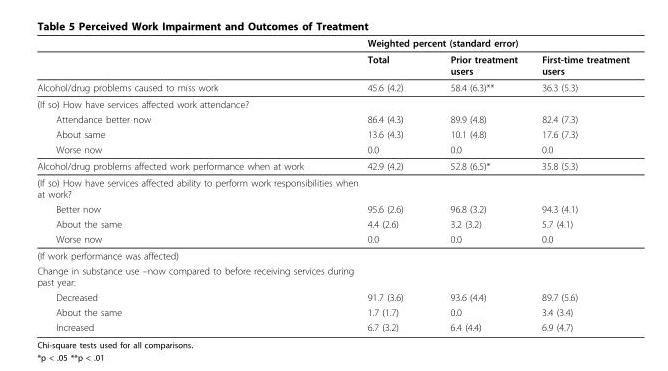table: (36, 36, 629, 332)
table column: (36, 36, 362, 332), (426, 36, 529, 332), (529, 36, 629, 332), (362, 36, 426, 332)
table column header: (36, 36, 629, 78)
table projected row header: (36, 174, 629, 201), (36, 262, 629, 289), (36, 95, 629, 111), (36, 247, 629, 262)
table row: (36, 50, 629, 78), (36, 174, 629, 201), (36, 262, 629, 289), (36, 78, 629, 95), (36, 157, 629, 174), (36, 95, 629, 111), (36, 141, 629, 157), (36, 231, 629, 247), (36, 111, 629, 126), (36, 126, 629, 141), (36, 201, 629, 216), (36, 216, 629, 231), (36, 247, 629, 262), (36, 289, 629, 304), (36, 304, 629, 319), (36, 36, 629, 50), (36, 319, 629, 332)
table spanning cell: (362, 36, 629, 50)
